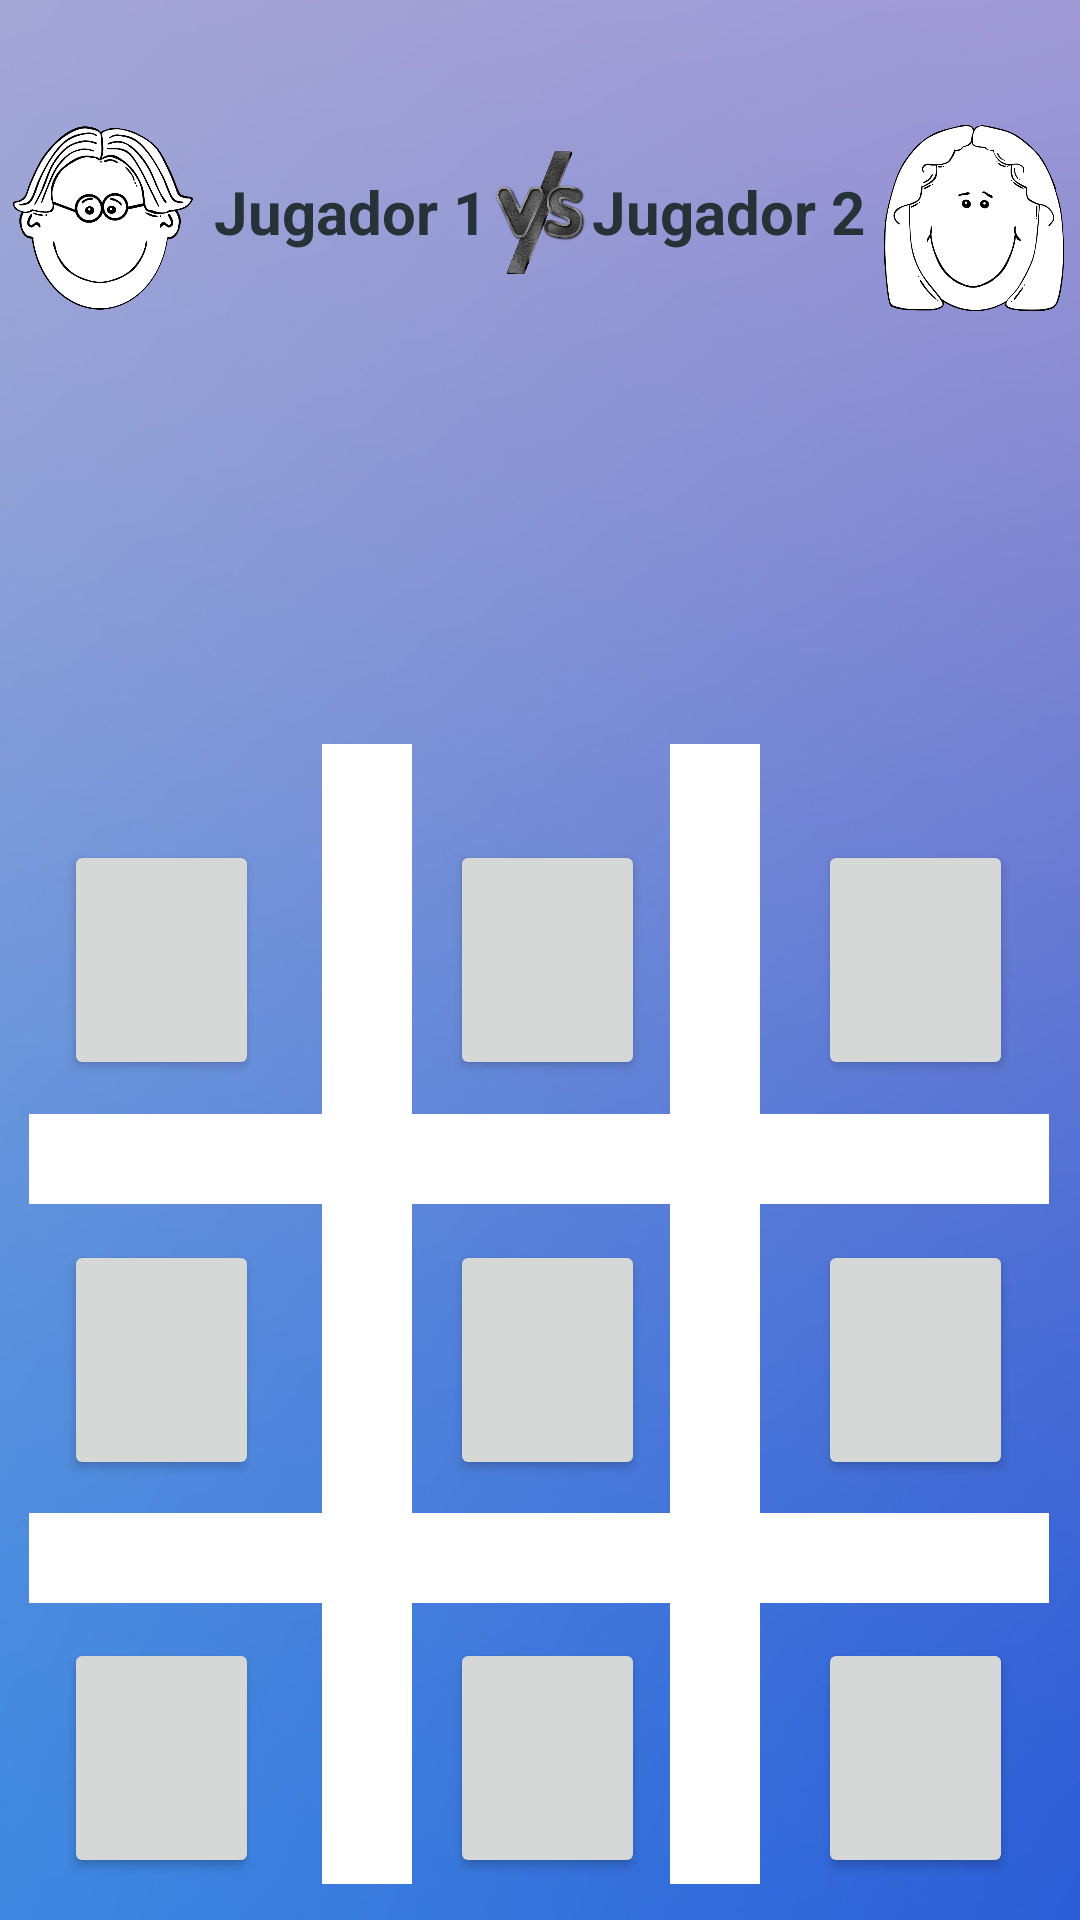

Icons on this 1080px×1920px Android screen, each with its box as [x1=x1, y1=y1, x2=x2, y2=y2]:
rostro: [x1=884, y1=125, x2=1064, y2=311]
